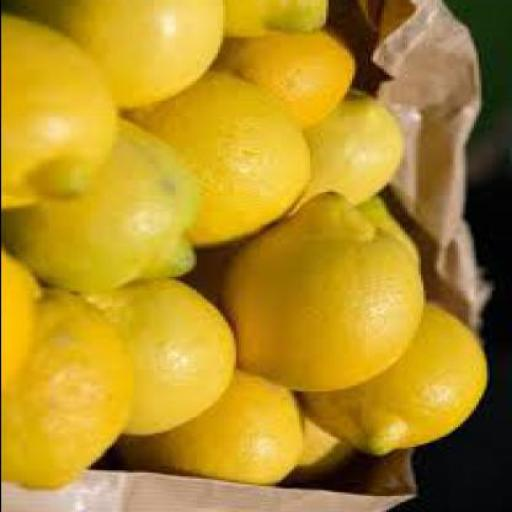biodegradable: (224, 194, 431, 396), (3, 117, 203, 297), (127, 69, 311, 253), (301, 307, 490, 459), (2, 290, 138, 490), (82, 277, 240, 437), (6, 2, 227, 112), (3, 14, 121, 211), (119, 376, 303, 486), (293, 93, 409, 221), (211, 36, 361, 130), (3, 238, 45, 404), (293, 411, 372, 486), (351, 196, 428, 270), (222, 2, 328, 37)
